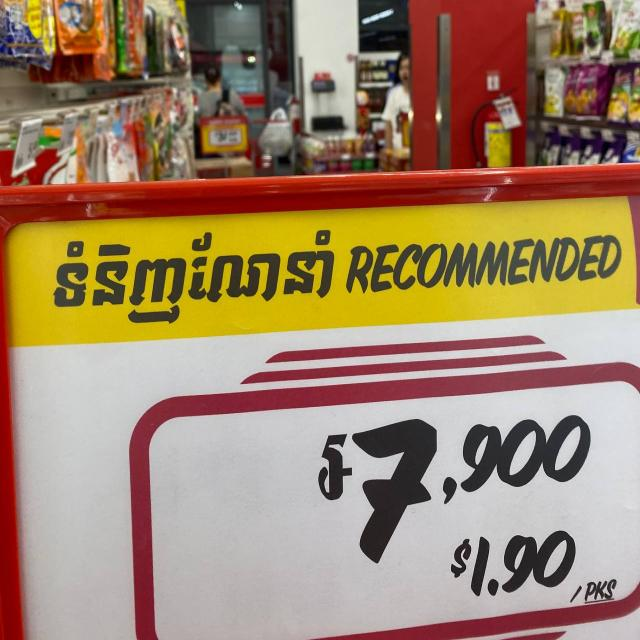105: (448, 519, 590, 616)
825: (356, 394, 602, 563)
Yolov11_80vkh: (42, 226, 344, 341), (310, 422, 356, 511)
